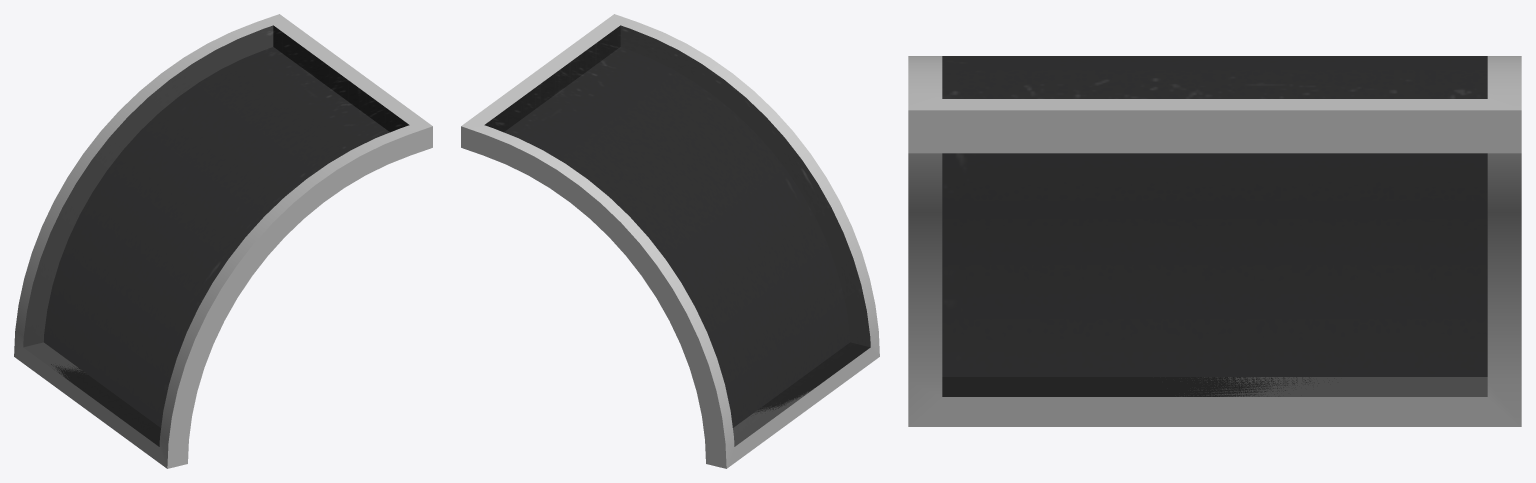
Rendered from 2x1_quartertube.fbx.
3 views of the same model, side by side, from view 1: azimuth 30°, elevation 25°; view 2: azimuth 150°, elevation 25°; view 3: azimuth 270°, elevation 25° (orthographic). The views are drawn at different scales.
Visible parts, largest first — view 1: 2x1_quartertube; view 2: 2x1_quartertube; view 3: 2x1_quartertube.
Boxes of the visible parts, x1,y1,x2,y2 form: 2x1_quartertube: (14,14,432,468); 2x1_quartertube: (461,14,879,468); 2x1_quartertube: (908,56,1521,426).
Bounding box in the file's own units: 45 × 45 × 45.
